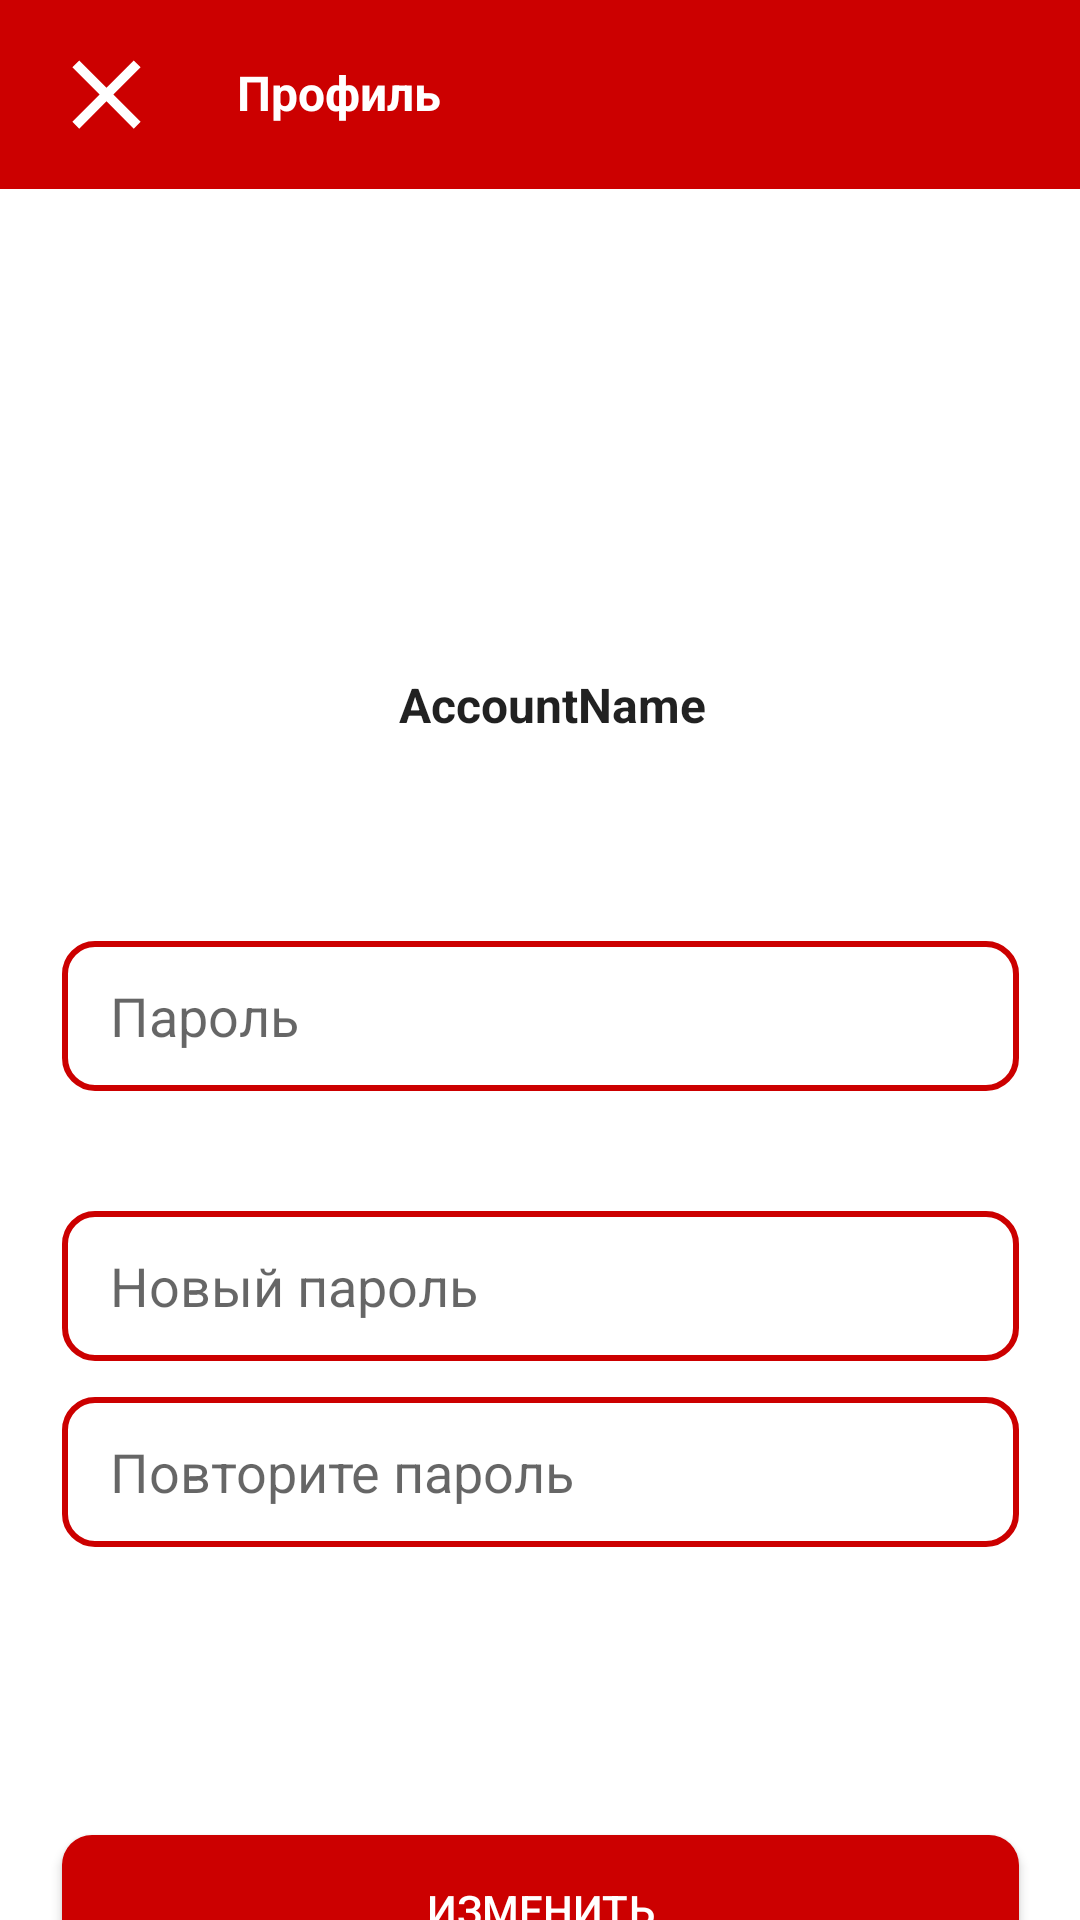

Icon bounding boxes for this 1080x1920 phone screenshot, format box=[x1, y1, x2, y2]:
close: box=[72, 60, 141, 129]
